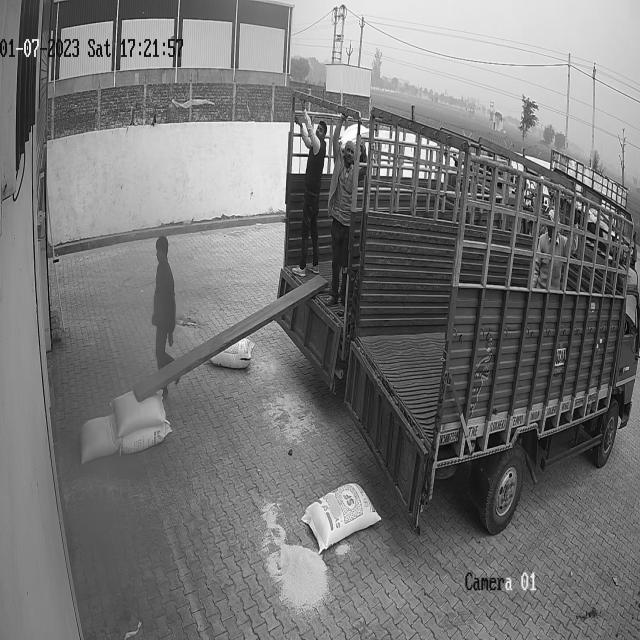sack: (302, 482, 381, 553), (111, 390, 165, 438), (79, 413, 117, 463), (120, 421, 171, 454), (210, 338, 254, 370)
